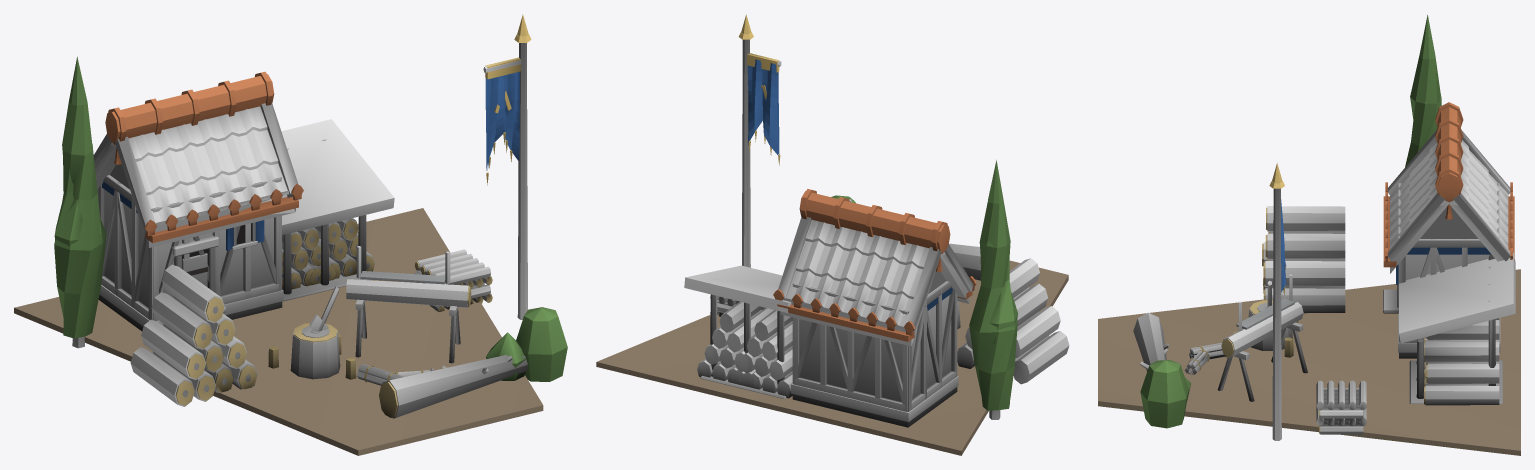
Rendered from woodcutter-l1.glb.
3 views of the same model, side by side, from view 1: azimuth 30°, elevation 25°; view 2: azimuth 150°, elevation 25°; view 3: azimuth 270°, elevation 25° (orthographic). The views are drawn at different scales.
Parts seen in each view (by area): view 1: woodcutter-l1; view 2: woodcutter-l1; view 3: woodcutter-l1.
Part boxes in pixels (x1,y1,x2,y2): woodcutter-l1: (14,14,567,455); woodcutter-l1: (596,14,1069,455); woodcutter-l1: (1098,15,1520,455).
Bounding box in the file's own units: 1.27 × 0.8829 × 1.22.
